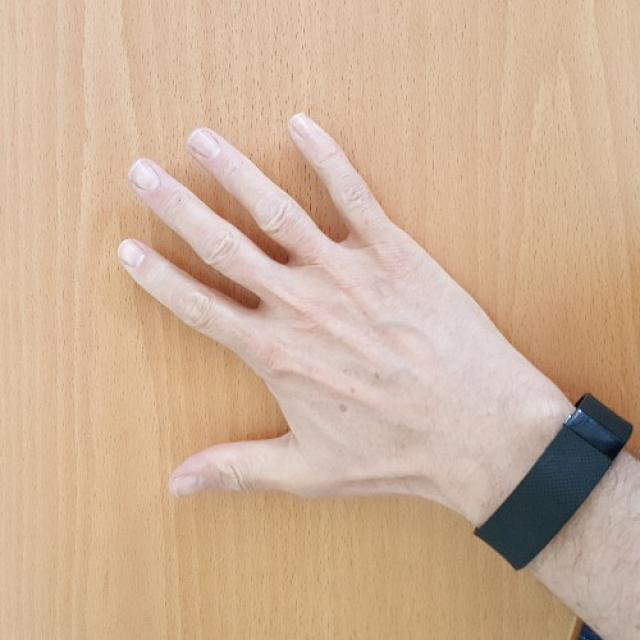paper: (116, 112, 462, 502)
